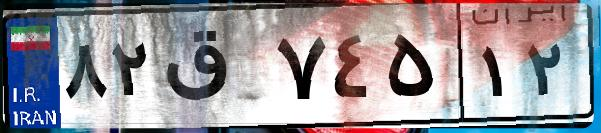1: (475, 38, 525, 113)
2: (525, 38, 570, 115), (110, 28, 158, 98)
4: (330, 28, 385, 110)
5: (385, 28, 445, 110)
7: (270, 28, 330, 110)
8: (57, 26, 110, 100)
ق: (158, 20, 270, 120)
